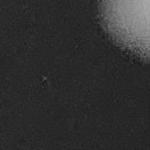colony: (89, 0, 150, 68)
